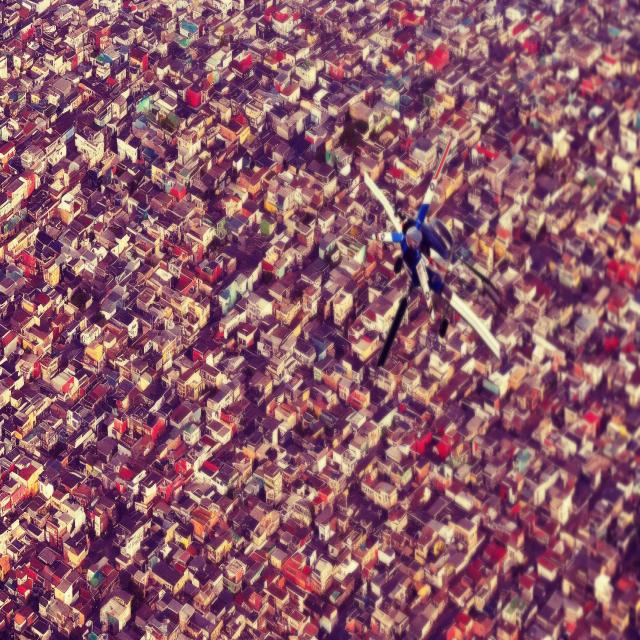airplane: (364, 136, 500, 369)
